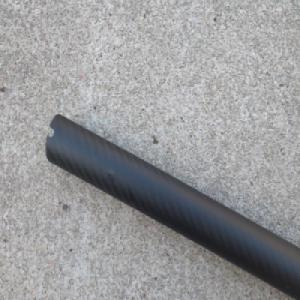LuggagePart: (44, 113, 300, 299)
